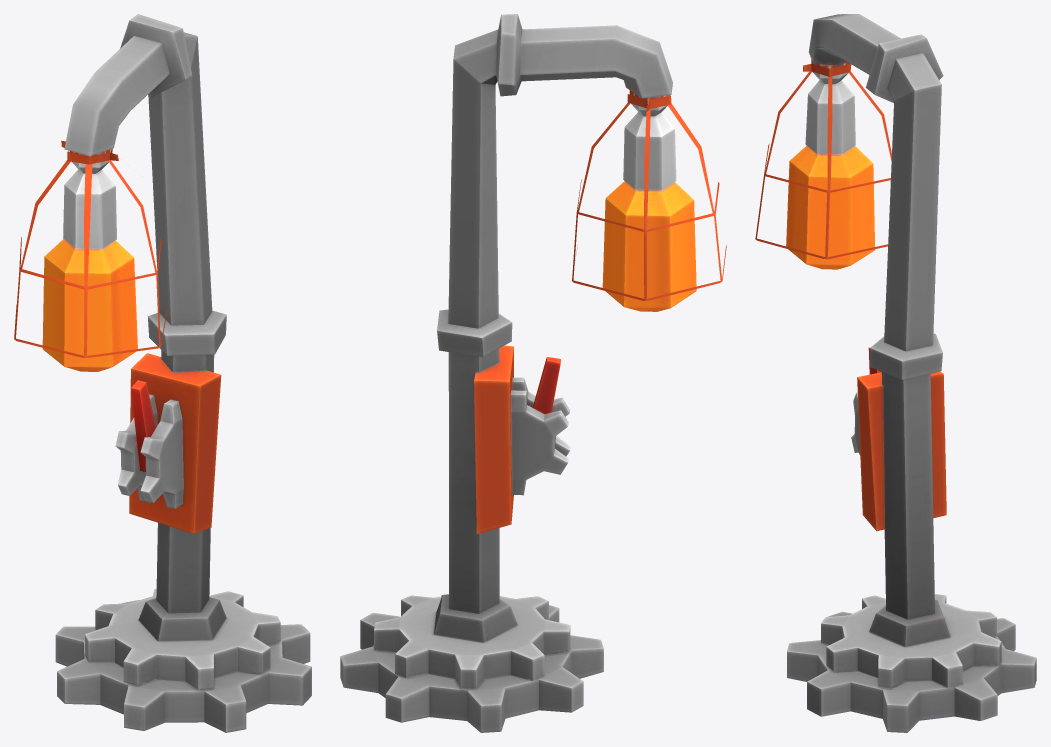
Rendered from obj_lamp02_base.gltf.
3 views of the same model, side by side, from view 1: azimuth 30°, elevation 25°; view 2: azimuth 150°, elevation 25°; view 3: azimuth 270°, elevation 25° (orthographic). The views are drawn at different scales.
Parts seen in each view (by area): view 1: obj_lamp02_base; view 2: obj_lamp02_base; view 3: obj_lamp02_base.
Boxes of the visible parts, <box> form: obj_lamp02_base: <box>14,14,311,732</box>; obj_lamp02_base: <box>340,14,726,732</box>; obj_lamp02_base: <box>755,14,1036,732</box>.
Size of what is drawn, in the model's own units: 0.5711 by 1.12 by 0.4566.
Materials: 1 (1 with a texture image).
